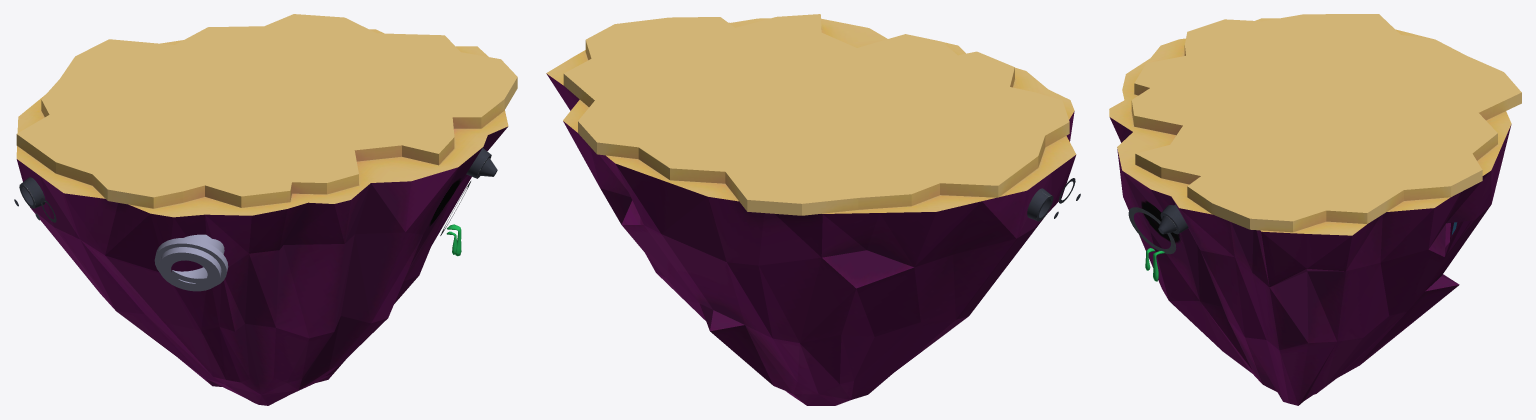
File: cyberpunk-bar.glb
3 views of the same model, side by side, from view 1: azimuth 30°, elevation 25°; view 2: azimuth 150°, elevation 25°; view 3: azimuth 270°, elevation 25° (orthographic). The views are drawn at different scales.
Parts seen in each view (by area): view 1: Object_20.003, Object_7.002, Object_21.002; view 2: Object_20.003, Object_21.002; view 3: Object_20.003, Object_21.002.
Boxes of the visible parts, x1,y1,x2,y2 form: Object_20.003: [16, 14, 517, 405]; Object_7.002: [154, 234, 228, 291]; Object_21.002: [14, 177, 470, 235]; Object_20.003: [546, 14, 1076, 405]; Object_21.002: [1027, 178, 1080, 221]; Object_20.003: [1109, 14, 1521, 405]; Object_21.002: [1128, 207, 1176, 254].
Size of the model in its own units: 1.62 by 0.9285 by 1.26.
Materials: 4 (2 with a texture image).
